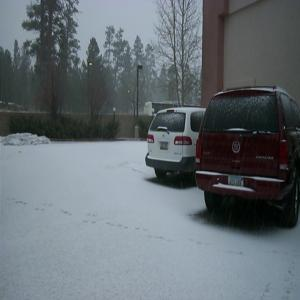Vehicle-registration-plate: (229, 175, 245, 187), (161, 142, 169, 150)
